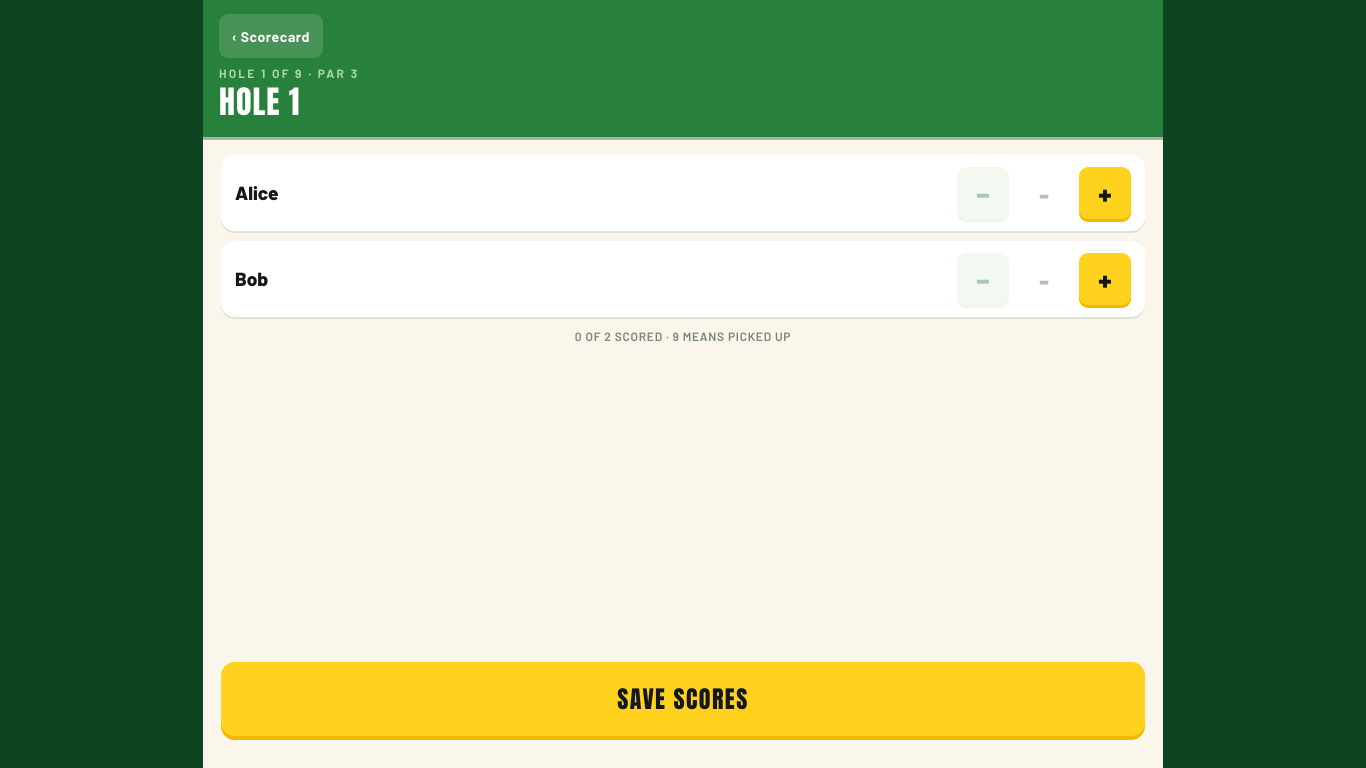
HoleEntry › counts the Players scored so far in the helper line
The width and height of the screenshot is (1366, 768).
Expected: the text "0 of 2 scored · 9 means picked up" is shown, [575, 329, 791, 343]
Step 1. Click the button "+" in the row of "Alice" → (1105, 193), box [1079, 167, 1131, 219]
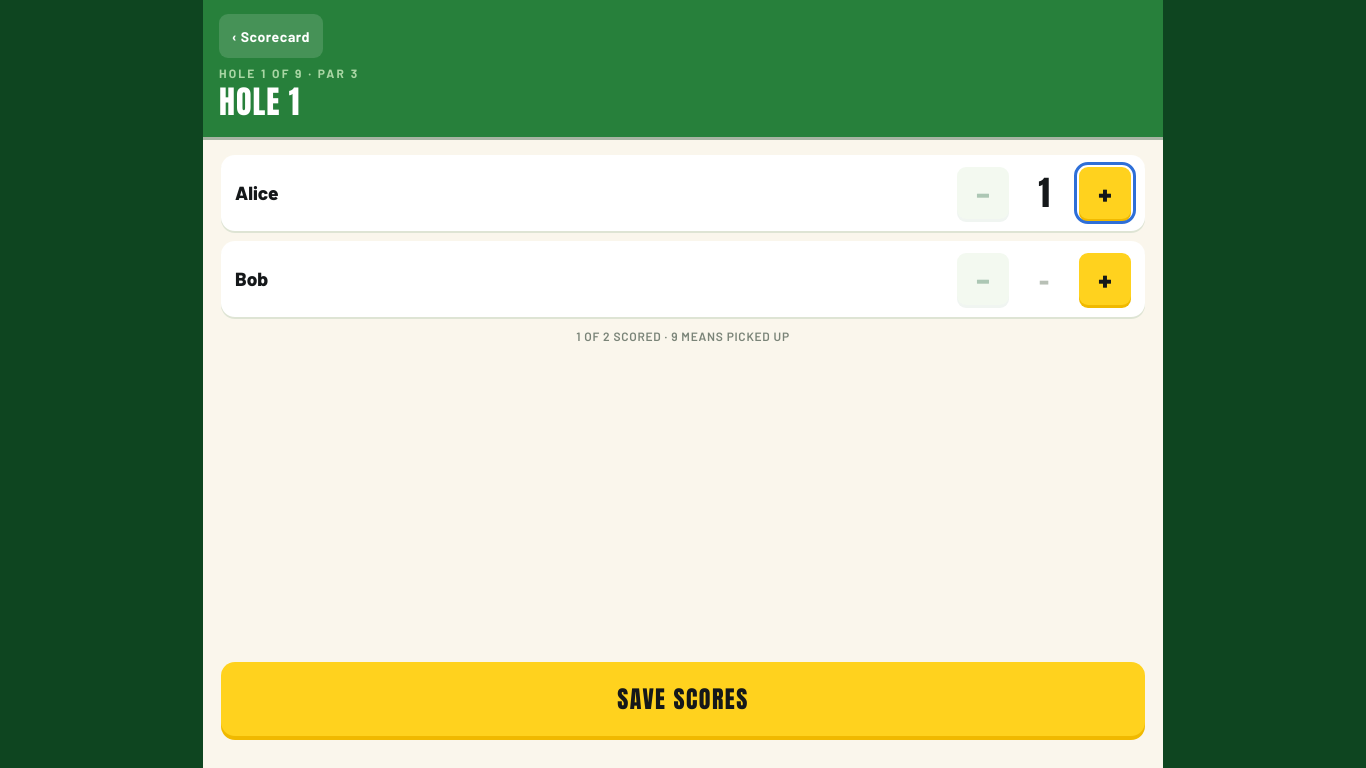
Expected: the text "1 of 2 scored · 9 means picked up" is shown, [576, 329, 790, 343]
